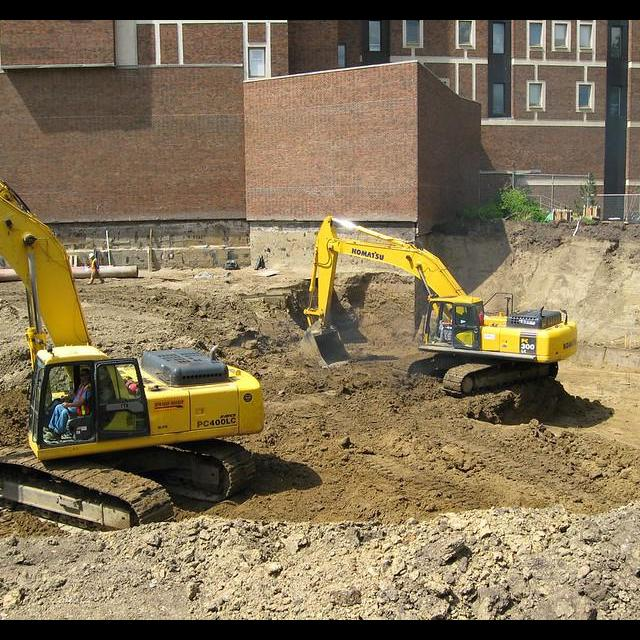Excavator: (0, 109, 262, 536), (303, 213, 580, 396)
Hardhat: (89, 253, 95, 259)
NO-Hardhat: (81, 368, 89, 373)
NO-Mask: (81, 376, 88, 381)
Person: (43, 368, 92, 440), (88, 252, 104, 284), (447, 308, 453, 326)
Safety Vest: (72, 384, 91, 415), (92, 258, 98, 270)
